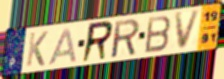A: (47, 27, 79, 67)
B: (144, 14, 173, 55)
K: (24, 30, 50, 68)
R: (79, 19, 115, 65), (111, 18, 142, 60)
V: (173, 8, 203, 52)
